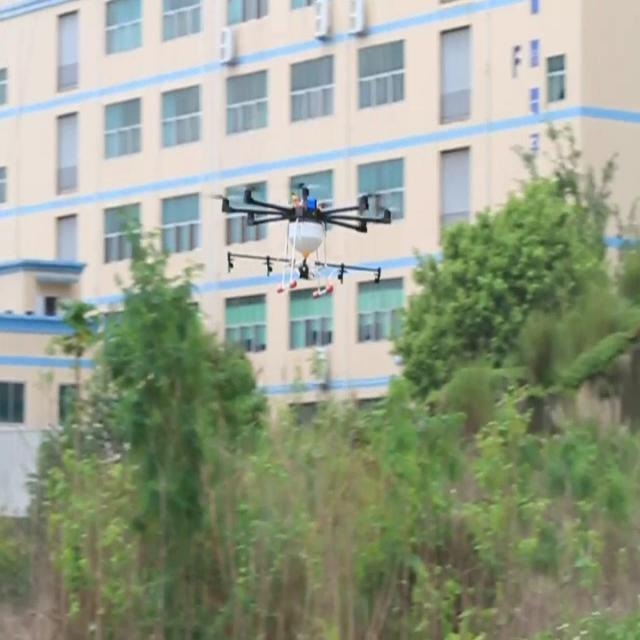UAV: (210, 182, 390, 298)
